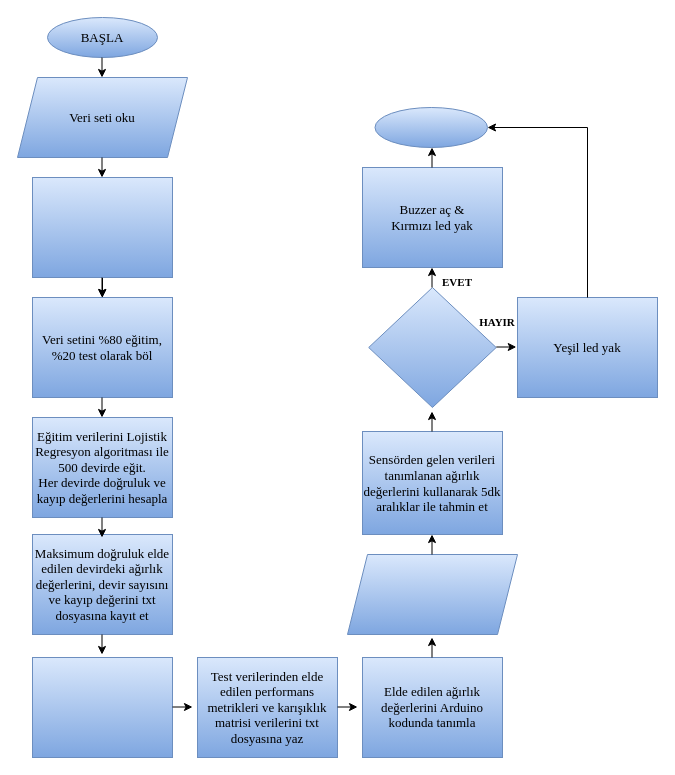
Some shapes in this 675 by 775 pixel diagram are drawn without their labels. The shapes that lost their labels are listed below. From the top down, each one's centre as x and y in pixels, then its label:
the point at 431,127: SON
the point at 102,227: Veri setindeki kullanılacak özellikleri seç
the point at 432,347: Tahmin == 1
the point at 432,594: Sensörden gelen verileri Arduino'da oku
the point at 102,707: Maksimum doğruluk elde edilen ağırlık değerleri ile test verilerini tahmin et
